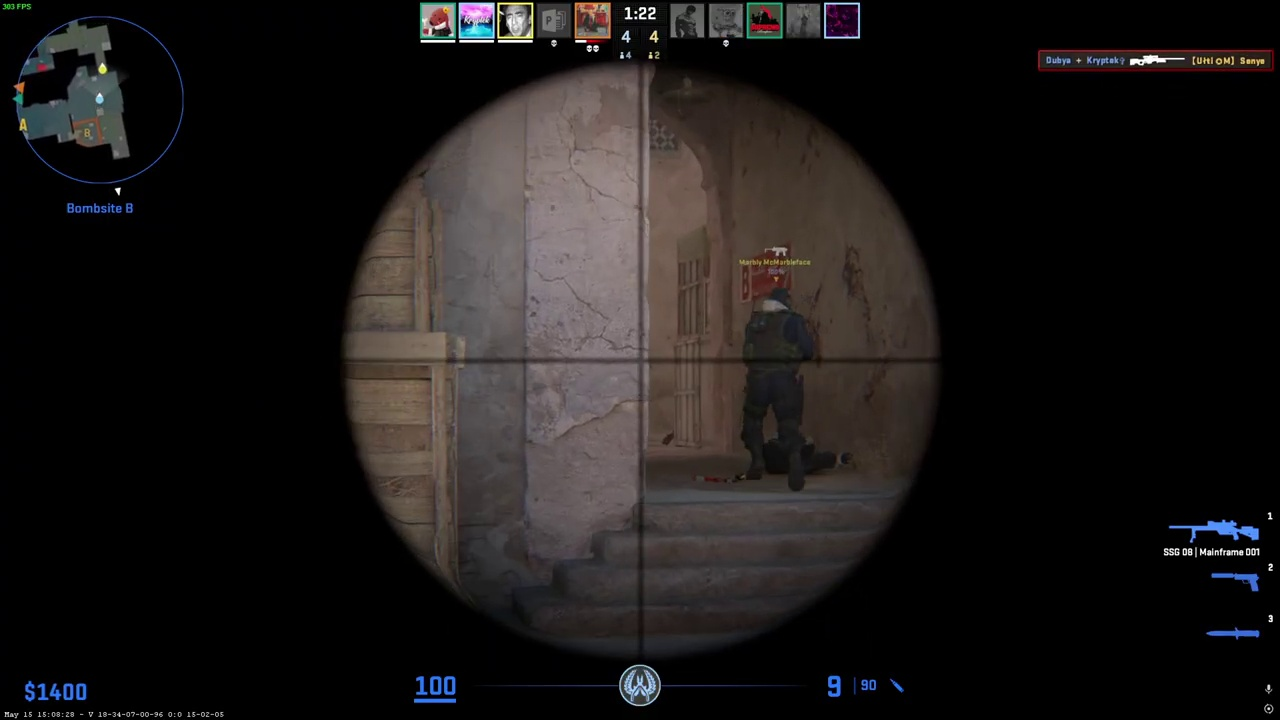CT: (740, 288, 814, 490)
